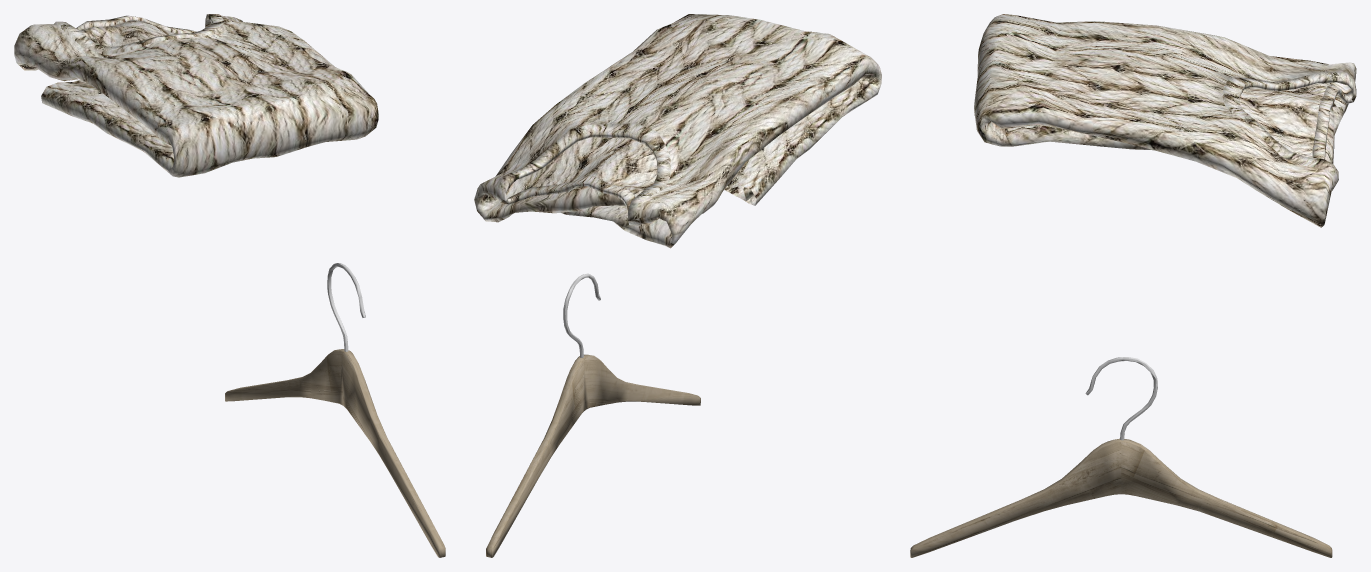
Rendered from rod-cloth4447.glb.
3 views of the same model, side by side, from view 1: azimuth 30°, elevation 25°; view 2: azimuth 150°, elevation 25°; view 3: azimuth 270°, elevation 25° (orthographic). The views are drawn at different scales.
Parts seen in each view (by area): view 1: cloth4447.001, Hangers_for_clothes095.001; view 2: cloth4447.001, Hangers_for_clothes095.001; view 3: cloth4447.001, Hangers_for_clothes095.001.
Boxes of the visible parts, x1,y1,x2,y2 form: cloth4447.001: (14, 14, 378, 177); Hangers_for_clothes095.001: (225, 263, 445, 557); cloth4447.001: (474, 14, 881, 248); Hangers_for_clothes095.001: (486, 273, 700, 557); cloth4447.001: (974, 14, 1356, 227); Hangers_for_clothes095.001: (910, 357, 1332, 557).
Bounding box in the file's own units: 0.2945 × 0.5103 × 0.4623.
3 materials, 2 textured.
